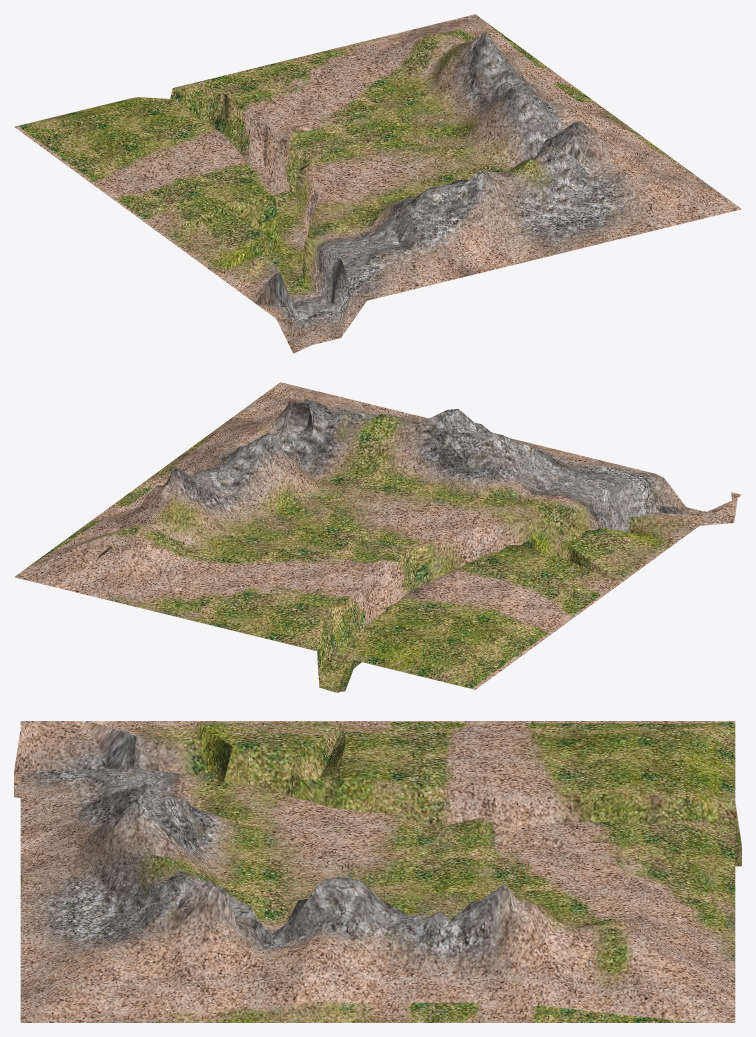
File: terrain 1.fbx
3 views of the same model, one above another, from view 1: azimuth 30°, elevation 25°; view 2: azimuth 150°, elevation 25°; view 3: azimuth 270°, elevation 25° (orthographic). The views are drawn at different scales.
Visible parts, largest first — view 1: group1; view 2: group1; view 3: group1.
Boxes of the visible parts, x1,y1,x2,y2 form: group1: (14, 14, 741, 353); group1: (14, 382, 741, 692); group1: (14, 721, 741, 1022).
Bounding box in the file's own units: 11996 × 2478 × 12223.
Materials: 1 (1 with a texture image).
